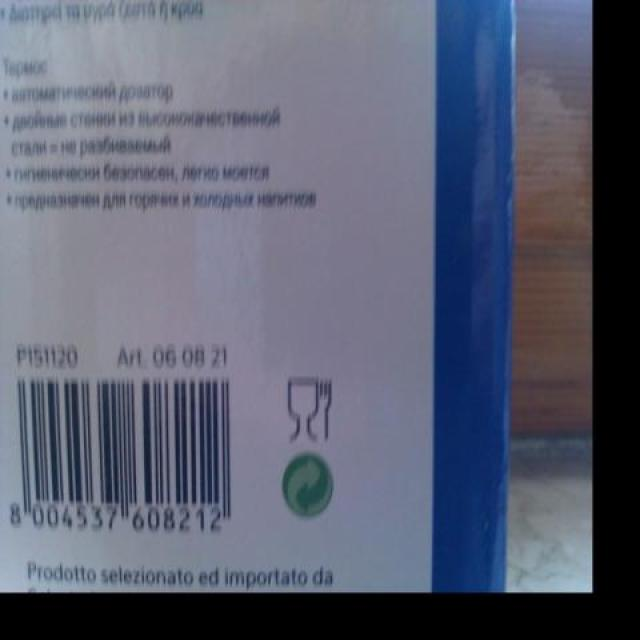Barcode: (4, 369, 251, 542)
